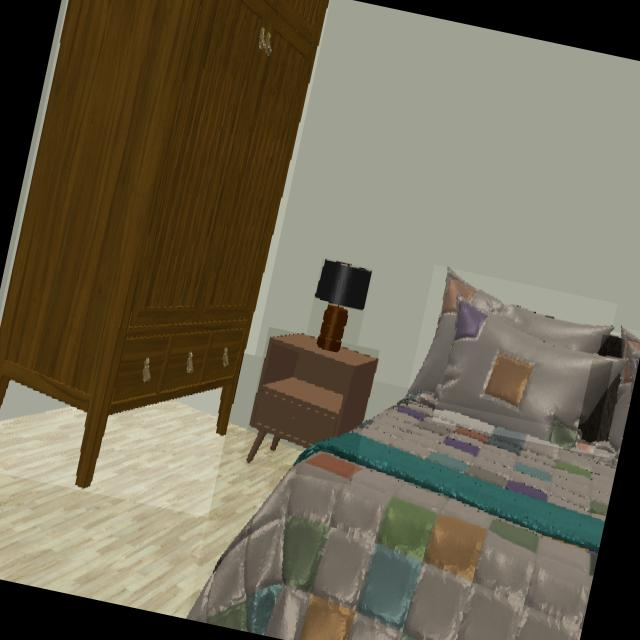bed: (186, 393, 619, 640), (578, 364, 628, 445), (598, 335, 622, 358)
lamp: (313, 259, 372, 353)
nighttable: (245, 333, 377, 462)
pillow: (436, 299, 628, 450), (407, 268, 612, 395), (607, 327, 640, 457)
